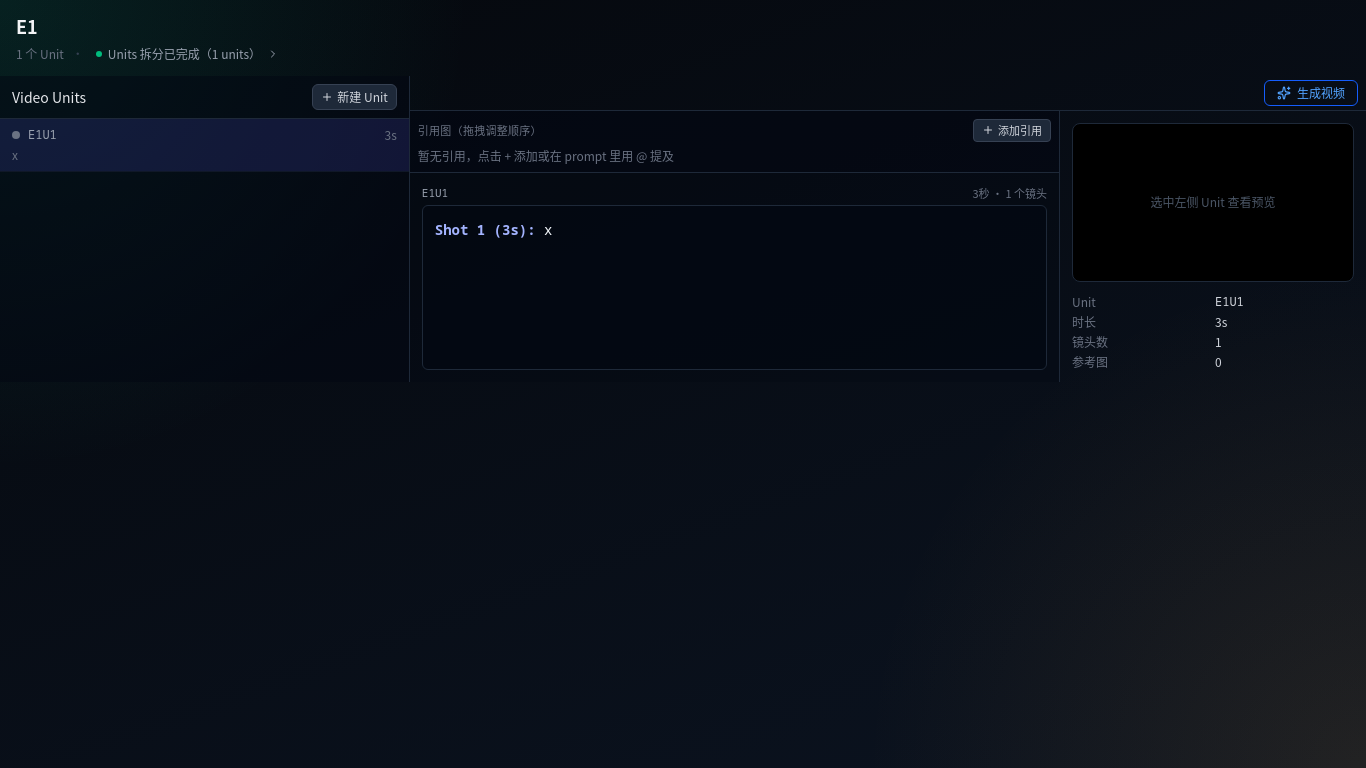
Test case: ReferenceVideoCanvas › flips the generate button to busy optimistically before the task poll picks it up
Click the button "生成视频" at (1311, 93), box left=1264, top=80, right=1358, bottom=106
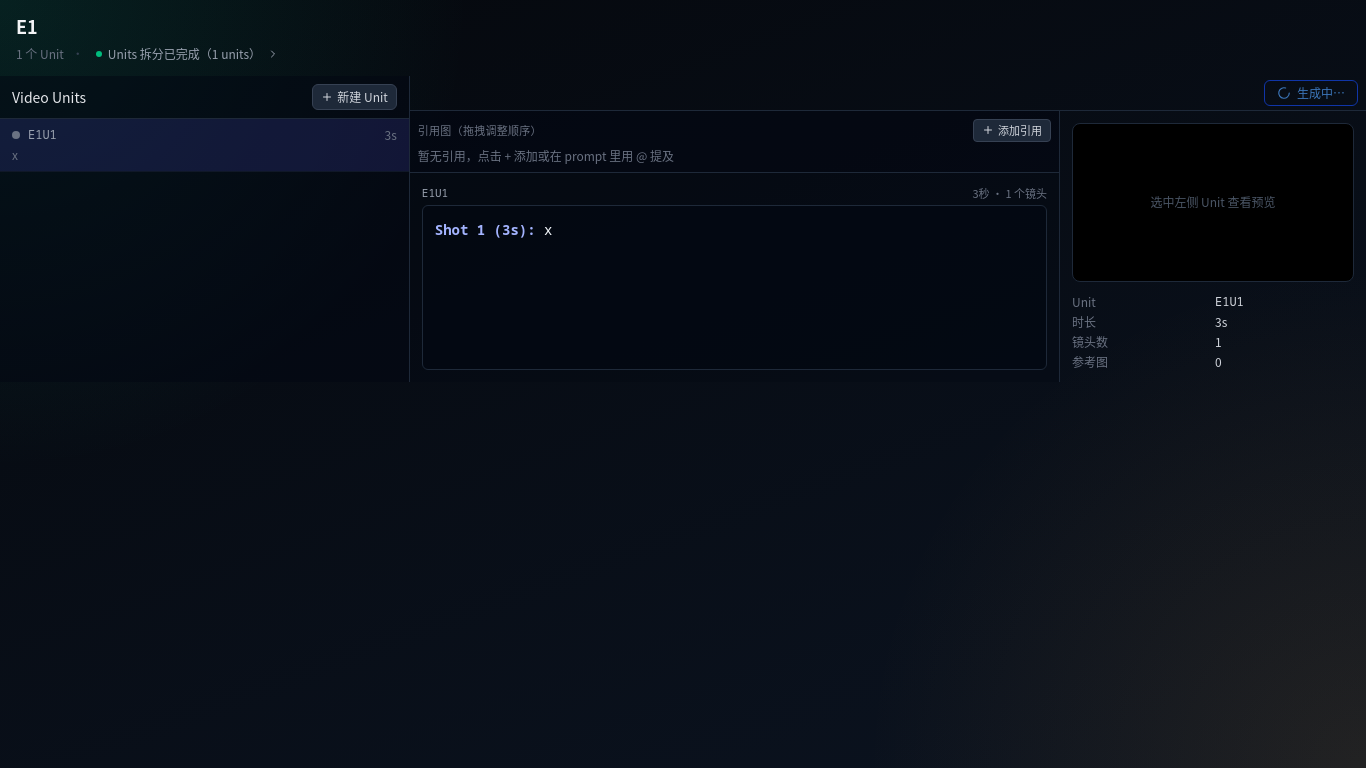
Check: the button "生成中…" is disabled, box left=1264, top=80, right=1358, bottom=106
